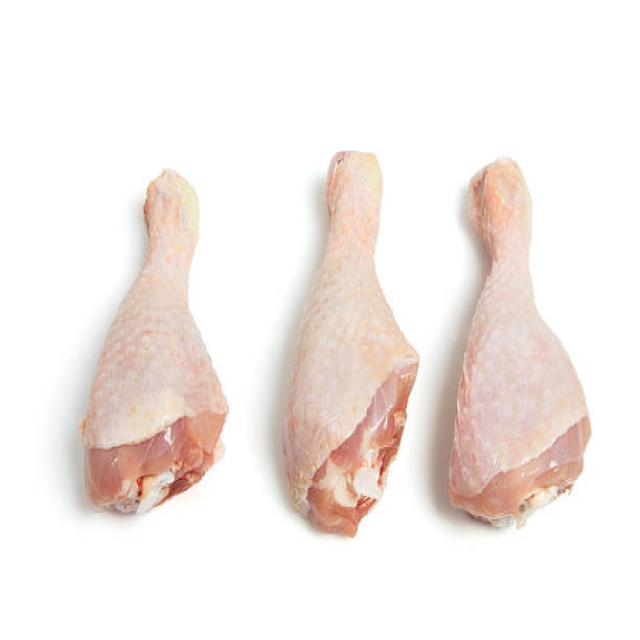Chicken: (278, 143, 424, 536), (76, 162, 229, 517), (451, 158, 588, 530)
